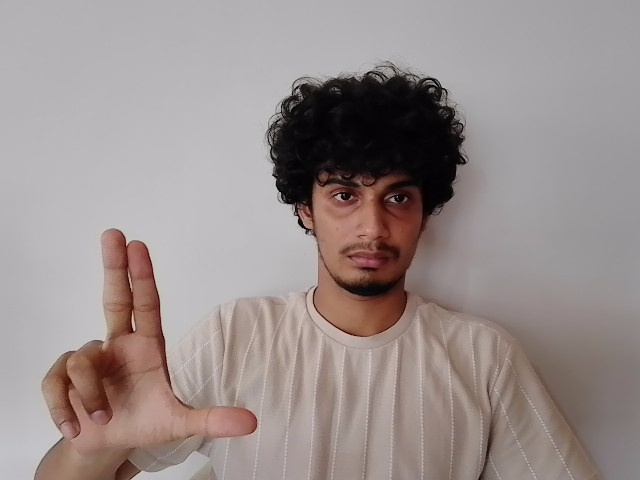no: (43, 238, 266, 449)
